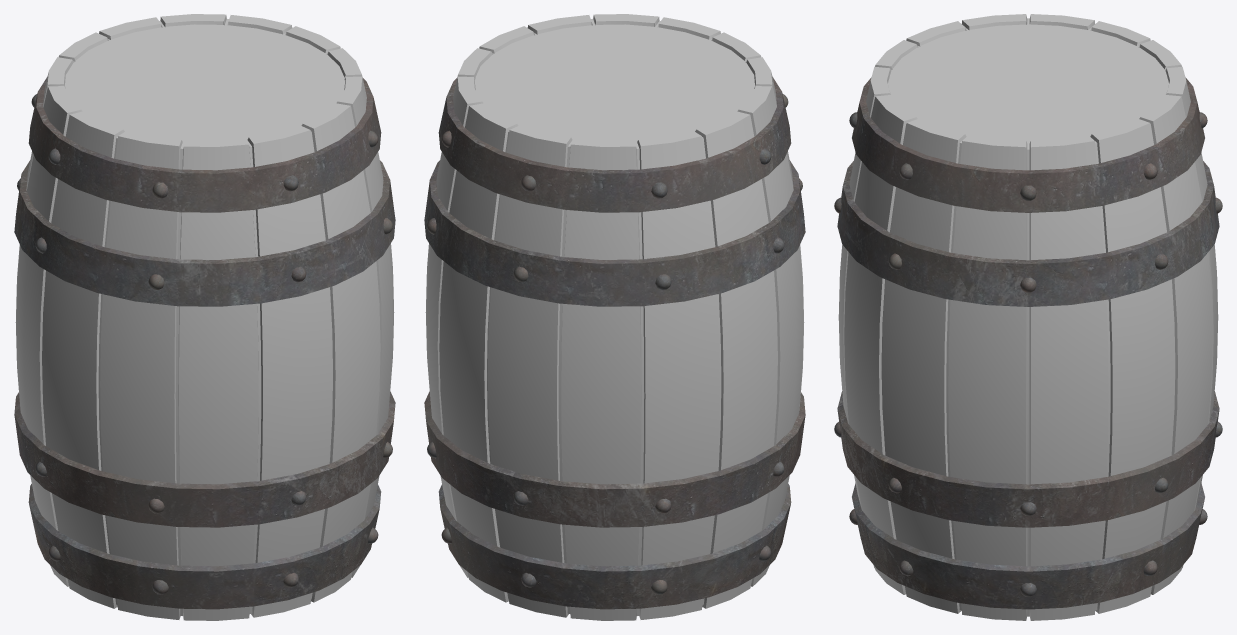
Rendered from SM_Barrel_01.fbx.
The picture shows the model from 3 angles, left to right: view 1: azimuth 30°, elevation 25°; view 2: azimuth 150°, elevation 25°; view 3: azimuth 270°, elevation 25°; orthographic projection.
Visible parts, largest first — view 1: SM_Barrel_01_LOD0; view 2: SM_Barrel_01_LOD0; view 3: SM_Barrel_01_LOD0.
Boxes of the visible parts, <box> form: SM_Barrel_01_LOD0: <box>14,14,395,620</box>; SM_Barrel_01_LOD0: <box>424,14,805,620</box>; SM_Barrel_01_LOD0: <box>834,14,1222,620</box>.
Size of the model in its own units: 54.32 by 54.32 by 73.08.
